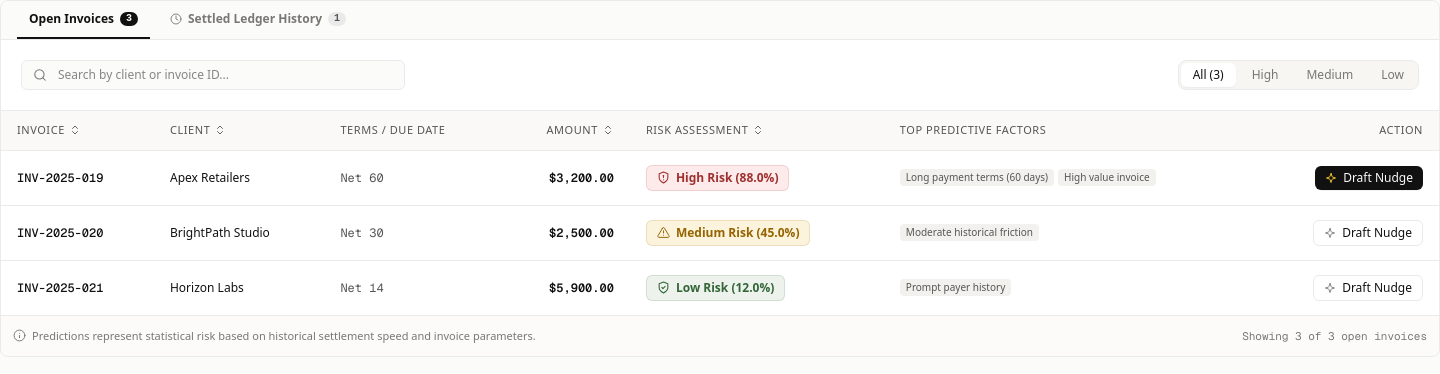
Test: InvoiceTable › renders historical invoices tab and switches to settled records
The width and height of the screenshot is (1440, 374).
Expected: the button "Open Invoices 3" is shown, [17,11,150,39]
Note: Switch to Settled Ledger History
Click the button "Settled Ledger History 1" at (258, 25), box [158,11,358,39]
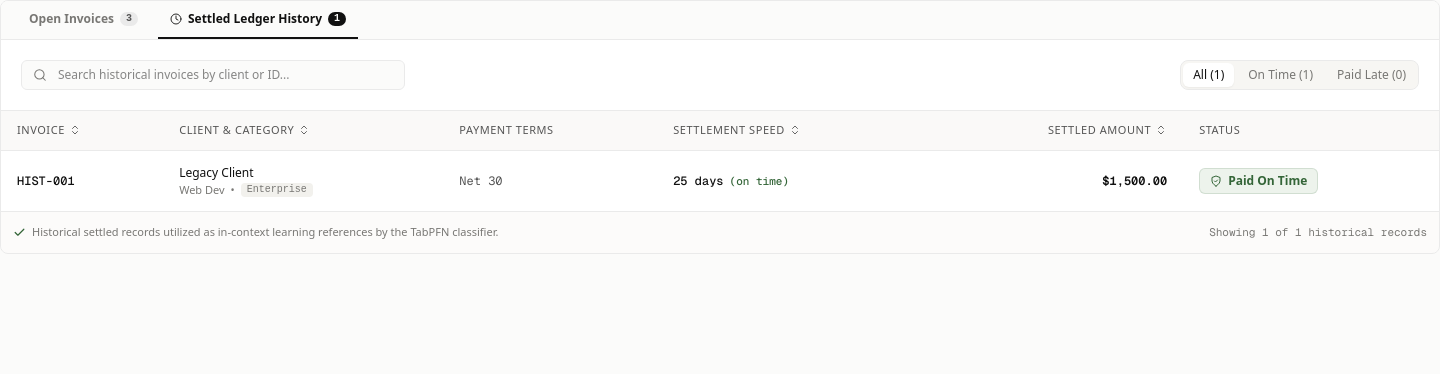
Expected: the text "HIST-001" is shown, [1,150,163,211]
Expected: the text "Legacy Client" is shown, [179,164,254,181]
Expected: the text "Paid On Time" is shown, [1228,173,1307,189]
